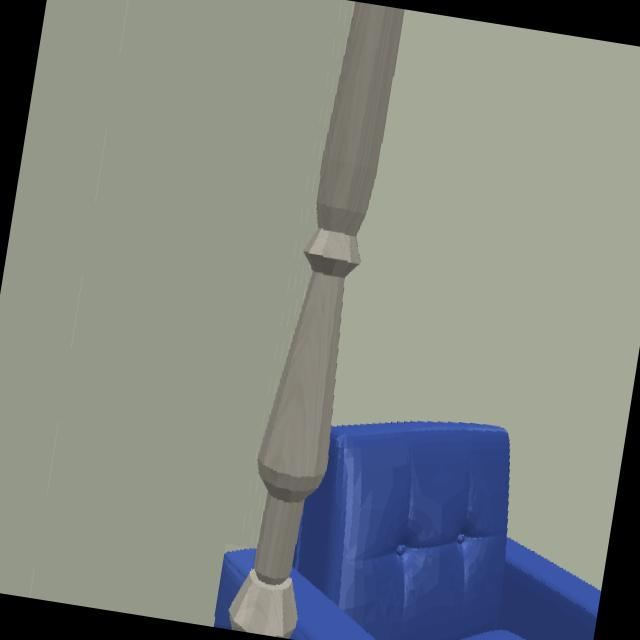sofa: (291, 423, 601, 640), (215, 549, 255, 627)
